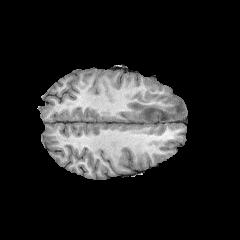glioma: (126, 98, 186, 121)
